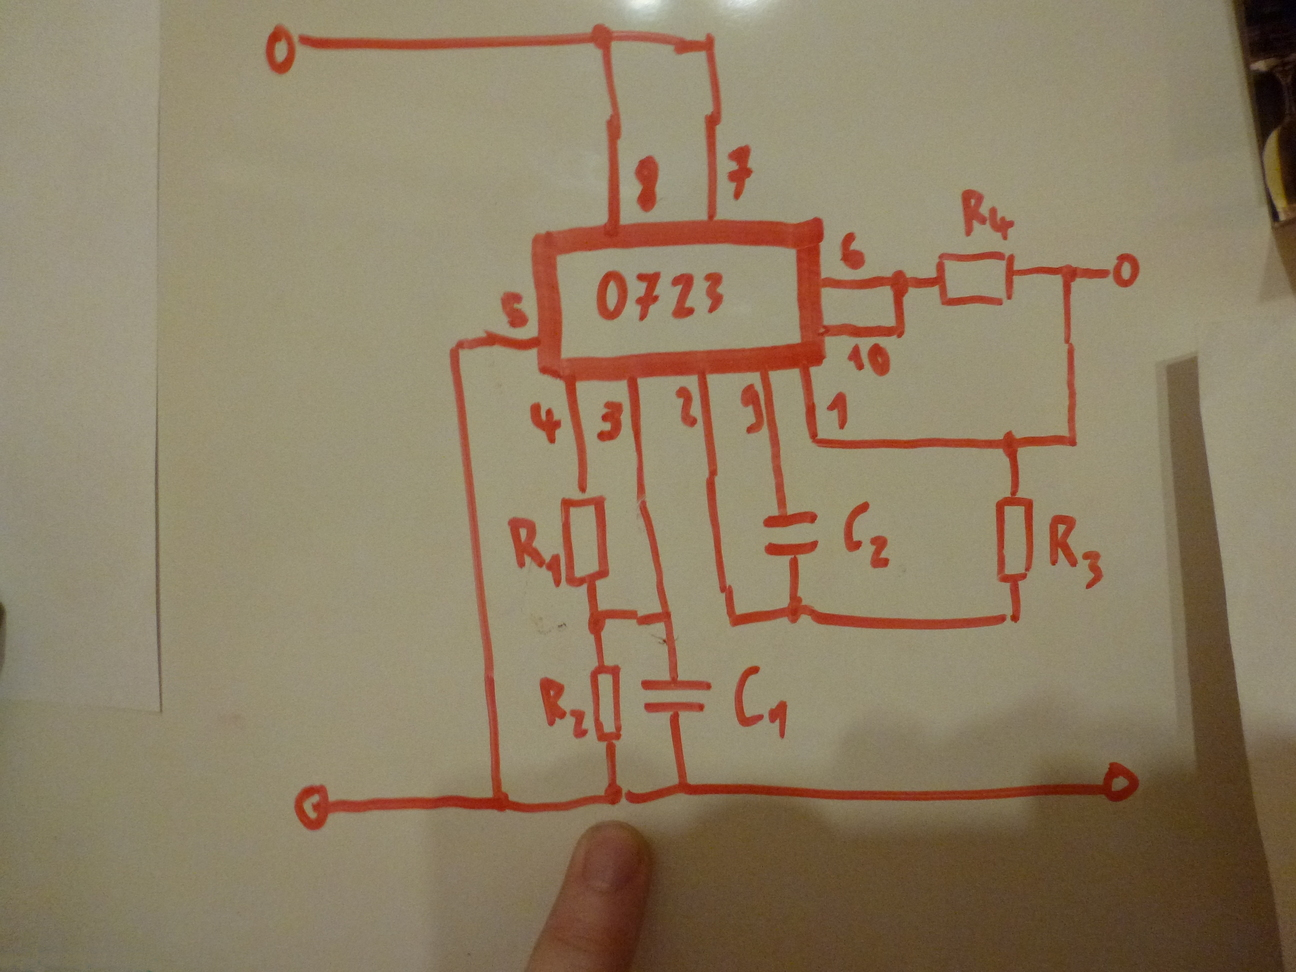capacitor.unpolarized: (637, 667, 715, 728), (755, 504, 827, 568)
integrated_circuit: (528, 216, 830, 381)
junction: (691, 22, 729, 60), (774, 592, 814, 627), (588, 20, 622, 53), (718, 609, 754, 639), (580, 607, 613, 639), (483, 789, 516, 819), (883, 265, 912, 299), (600, 778, 629, 812), (997, 429, 1027, 460), (1056, 256, 1083, 288), (998, 606, 1028, 634), (672, 776, 698, 801), (442, 334, 465, 360), (1059, 429, 1085, 452), (890, 315, 911, 340), (657, 603, 678, 627), (804, 431, 825, 452)
resistor: (558, 483, 616, 593), (931, 249, 1020, 313), (991, 487, 1038, 589), (586, 657, 631, 755)
terminal: (285, 777, 343, 836), (261, 18, 308, 77), (1095, 758, 1143, 806), (1105, 250, 1149, 294)
text: (585, 266, 732, 325), (1044, 511, 1112, 594), (730, 662, 800, 741), (504, 514, 564, 589), (952, 180, 1021, 245), (840, 496, 896, 571), (534, 672, 590, 743), (631, 149, 666, 215), (722, 141, 760, 203), (842, 341, 897, 381), (735, 380, 767, 437), (525, 399, 562, 447), (593, 395, 626, 446), (824, 388, 859, 434), (667, 382, 701, 430), (836, 229, 873, 273), (497, 286, 532, 332)
